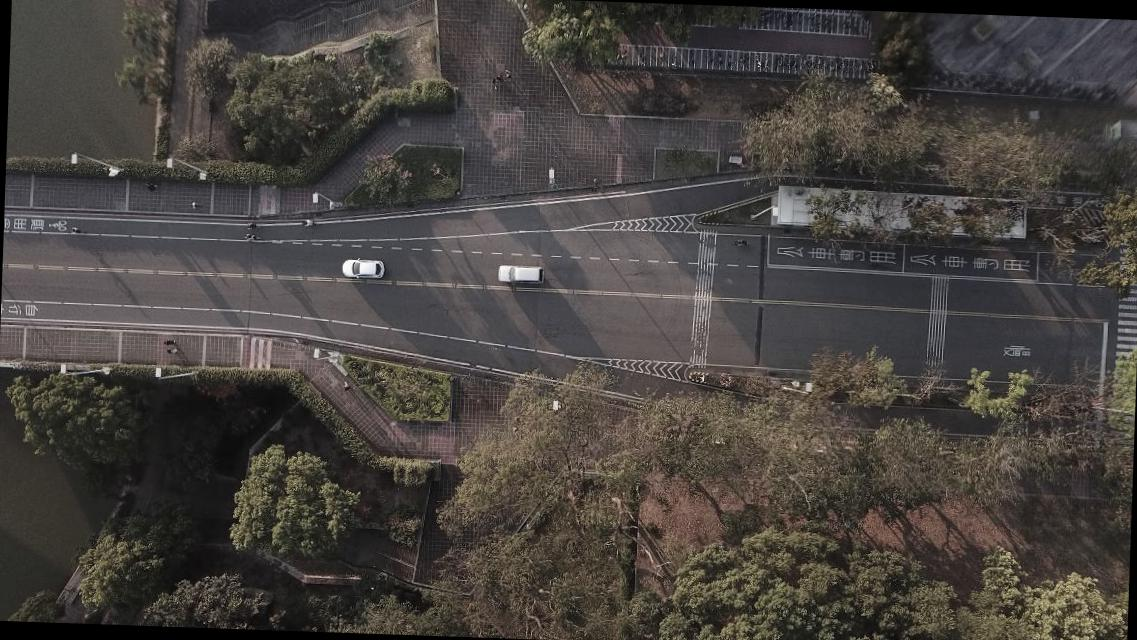vehicle: (497, 264, 543, 286), (341, 258, 385, 280)
